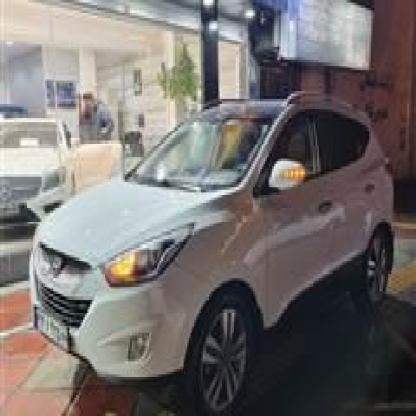Car: (31, 91, 399, 400), (0, 109, 68, 242)
